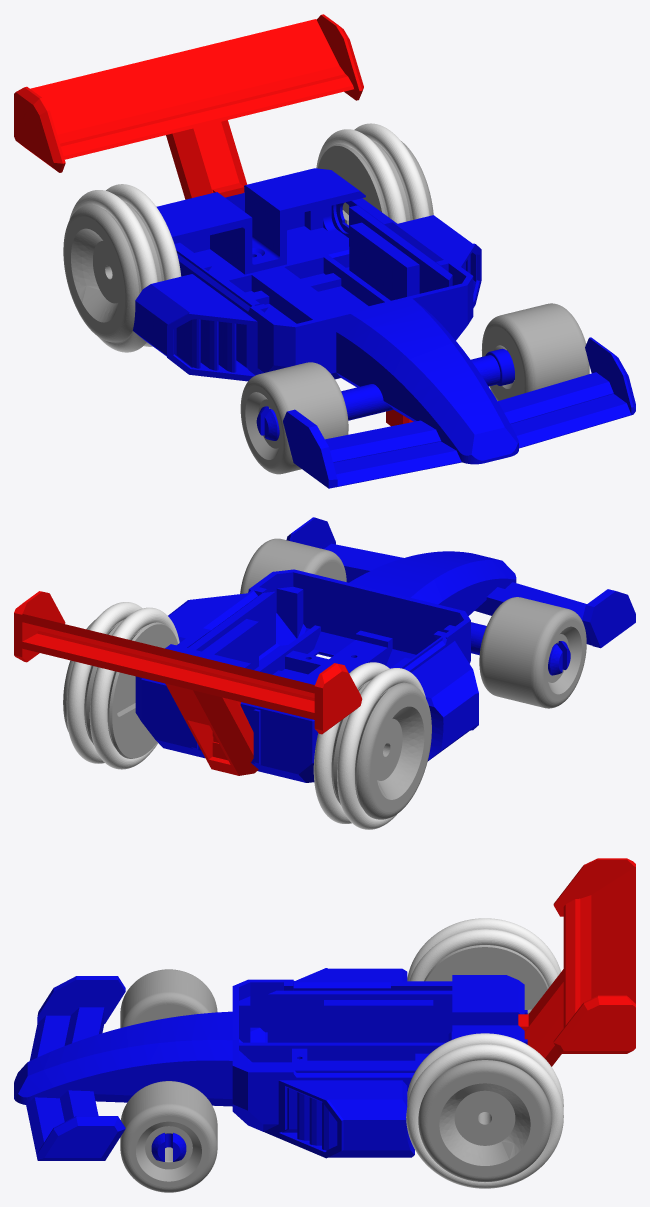
File: Bottom_Race.glb
The picture shows the model from 3 angles, top to bottom: view 1: azimuth 30°, elevation 25°; view 2: azimuth 150°, elevation 25°; view 3: azimuth 270°, elevation 25°; orthographic projection. The views are drawn at different scales.
Visible parts, largest first — view 1: Node1, Node3, Node4, Node2; view 2: Node1, Node4, Node3, Node2; view 3: Node1, Node4, Node3, Node2.
Boxes of the visible parts, x1=… form: Node1: x1=133, y1=168, x2=635, y2=488; Node3: x1=14, y1=14, x2=413, y2=426; Node4: x1=63, y1=141, x2=589, y2=474; Node2: x1=69, y1=123, x2=429, y2=352; Node1: x1=135, y1=517, x2=635, y2=782; Node4: x1=63, y1=538, x2=586, y2=819; Node3: x1=14, y1=591, x2=362, y2=775; Node2: x1=66, y1=602, x2=425, y2=829; Node1: x1=14, y1=968, x2=527, y2=1161; Node4: x1=120, y1=945, x2=551, y2=1192; Node3: x1=518, y1=858, x2=635, y2=1066; Node2: x1=406, y1=918, x2=563, y2=1188.
Size of the model in its own units: 113 by 71.7 by 205.
